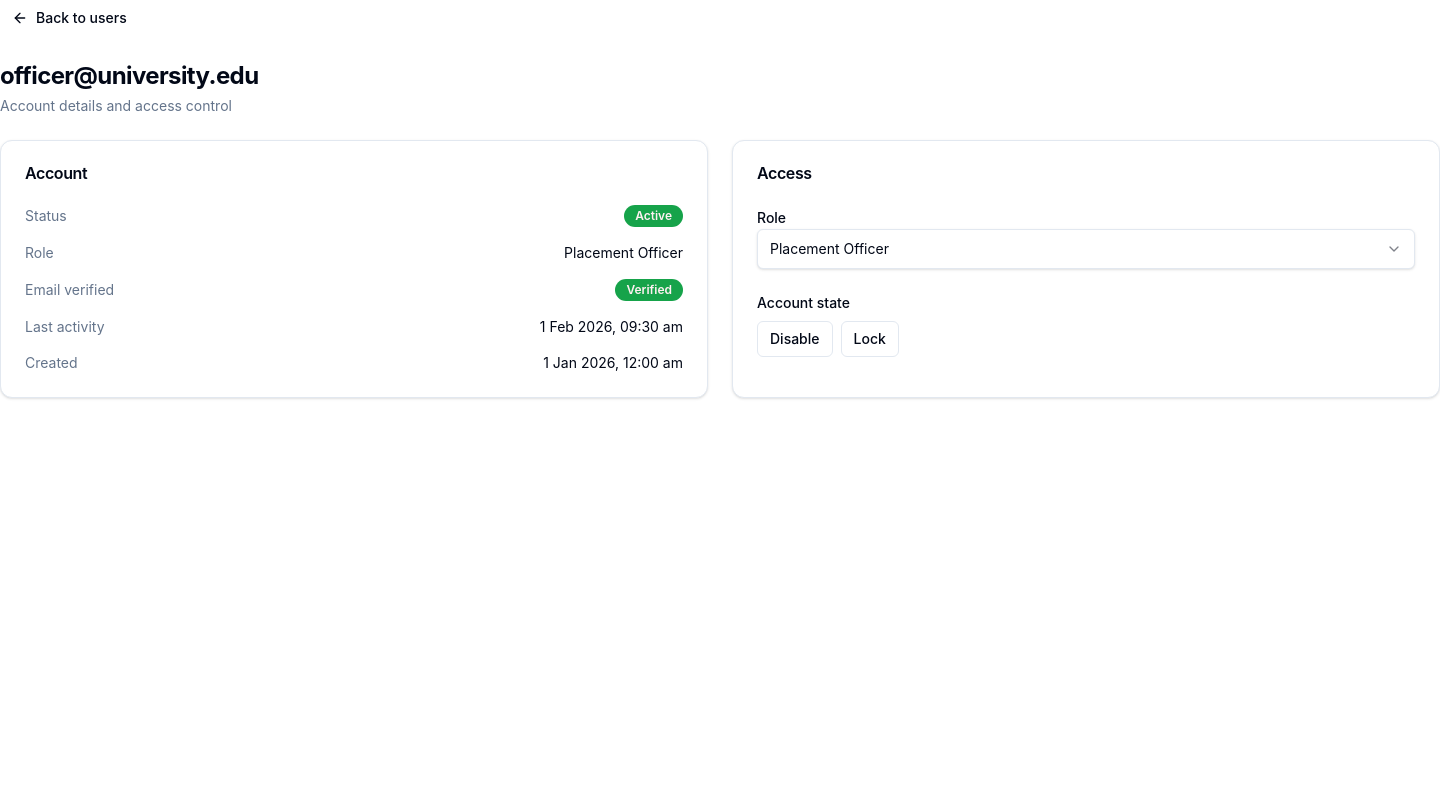
UserDetailPage › confirms before changing a role
Expected: the heading "officer@university.edu" is shown, [0,60,258,92]
Click the dropdown named "Change role" at (829, 248), box [757,229,1415,269]
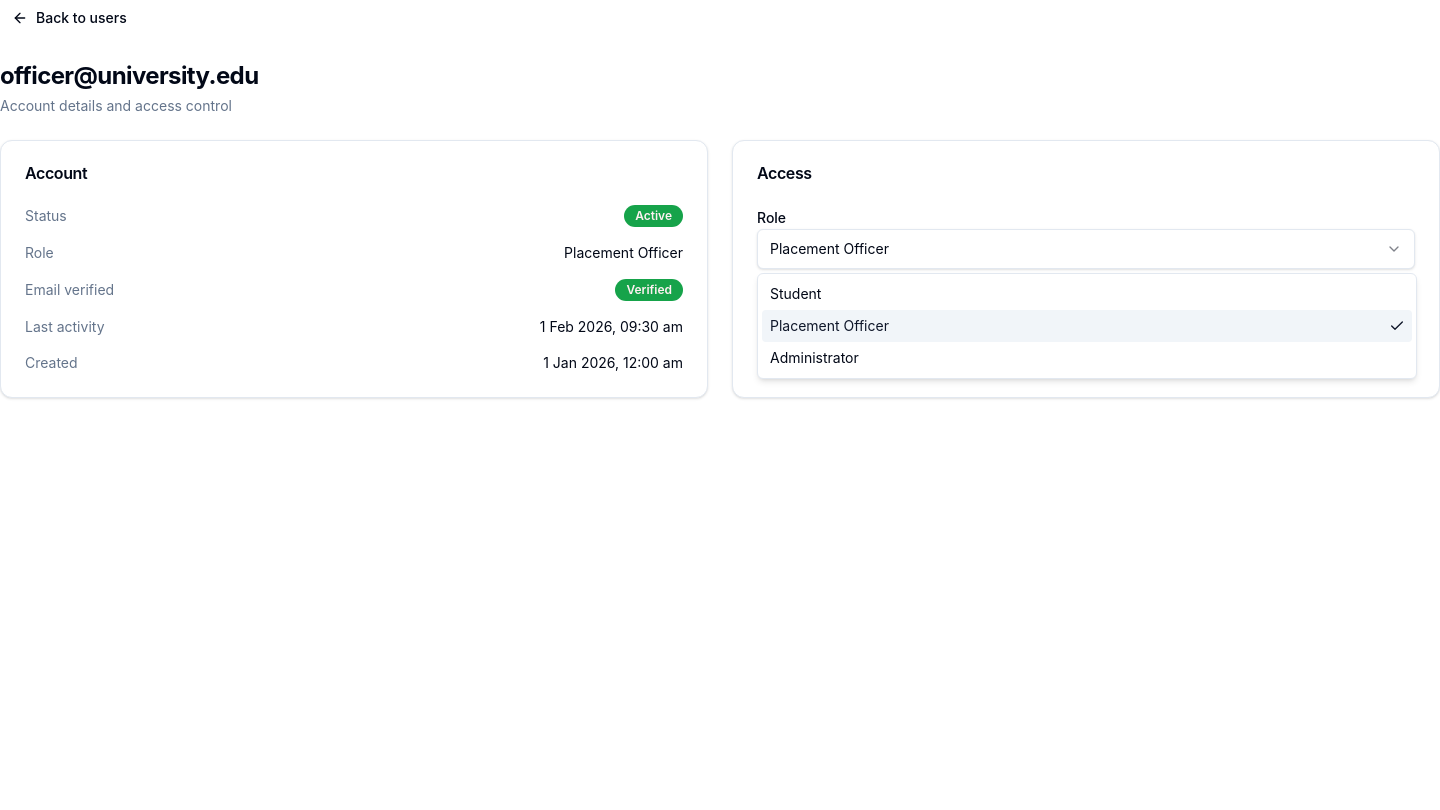
Click the option "Administrator" at (814, 358), box [770,349,859,366]
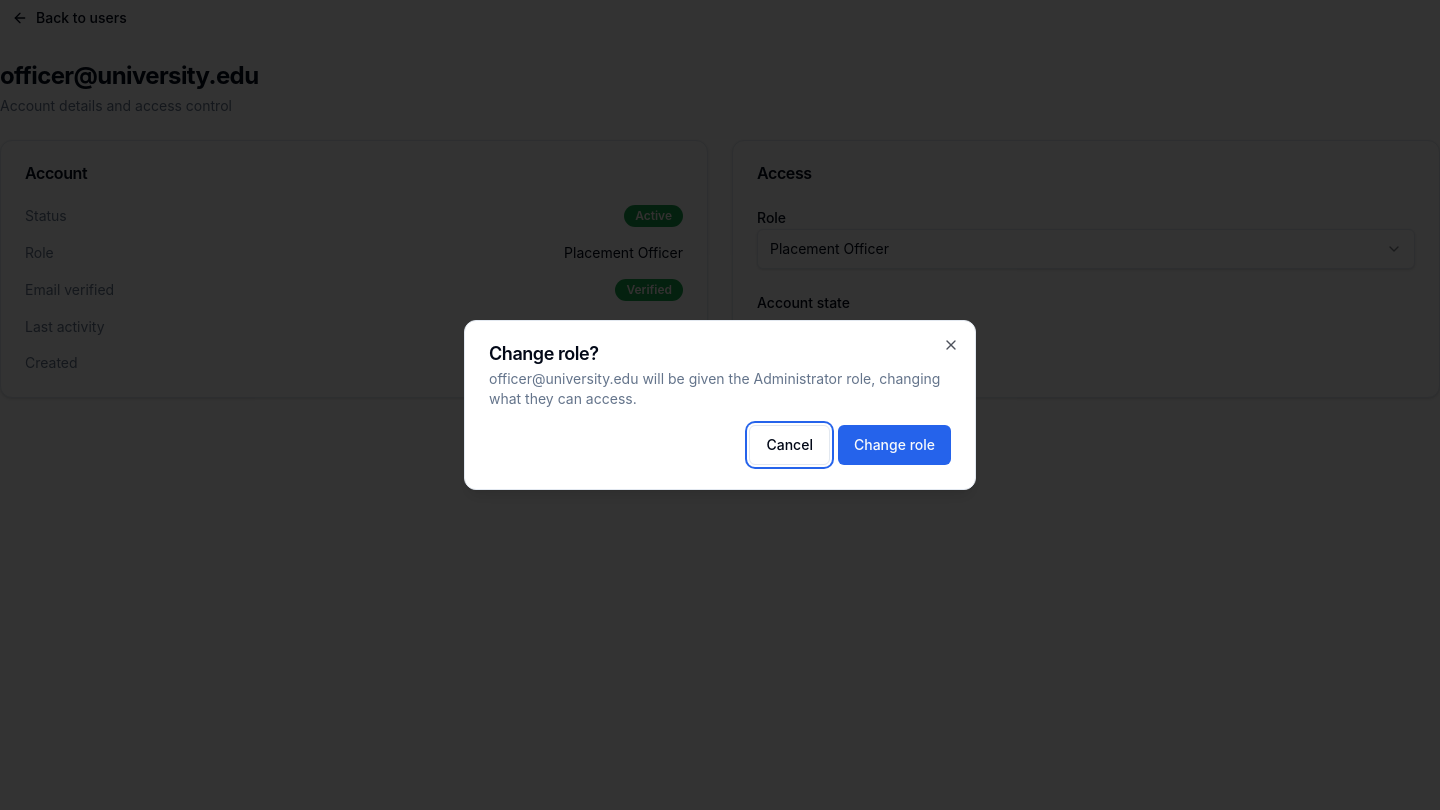
Result: the heading "Change role?" is shown at [489,343,598,364]
Click the button "Change role" at (894, 445), box [838,425,951,465]
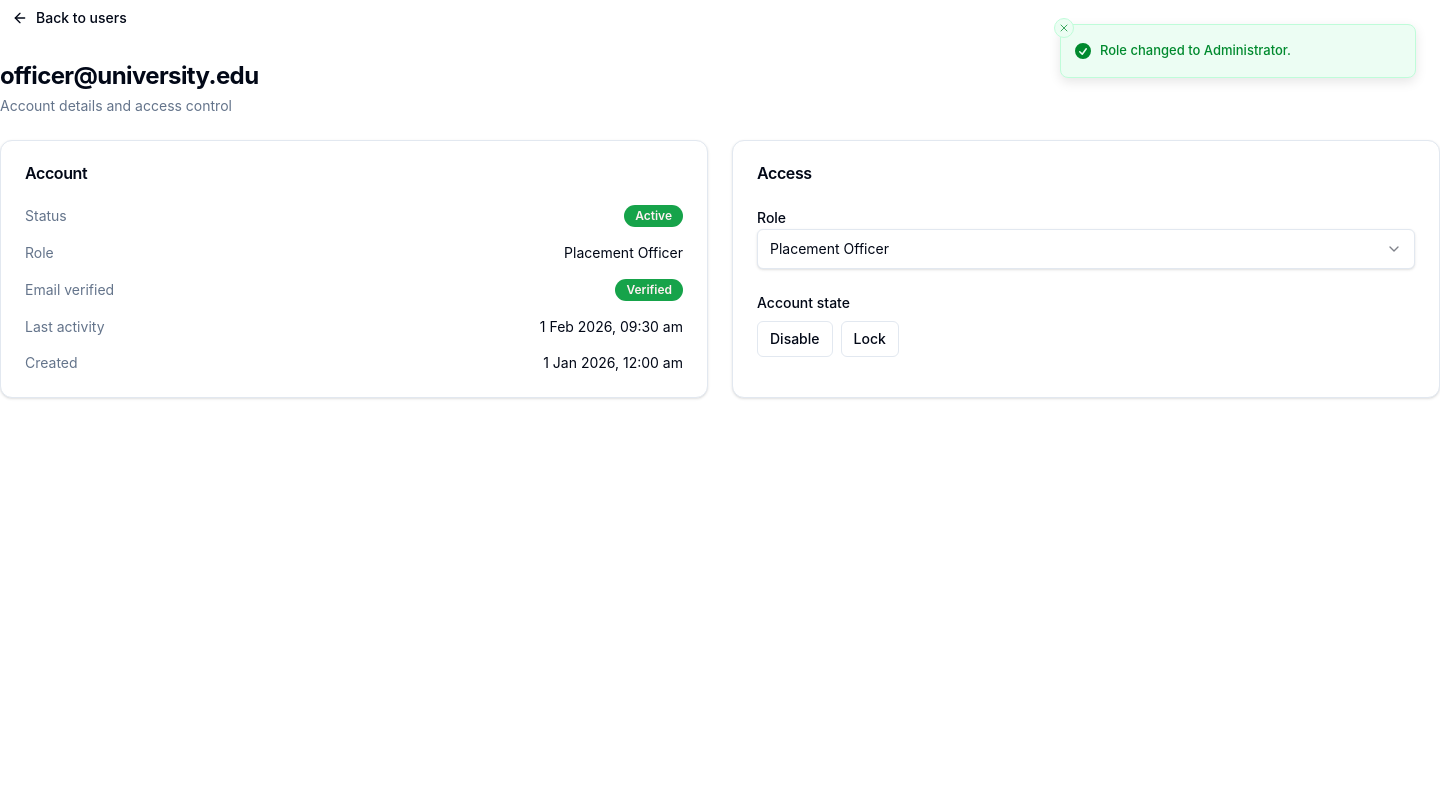
Result: the text "Role changed to Administrator." is shown at [1100,41,1291,60]
